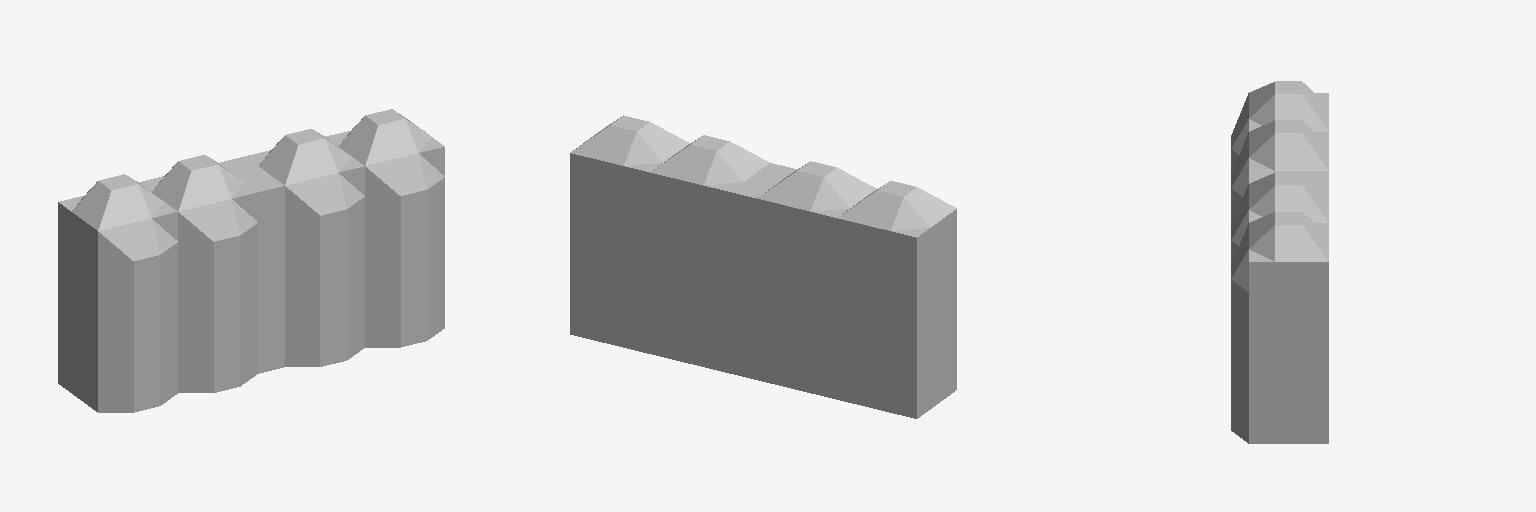
Rendered from Wall.obj.
3 renders of one model, left to right at view 1: azimuth 30°, elevation 25°; view 2: azimuth 150°, elevation 25°; view 3: azimuth 270°, elevation 25°, orthographic.
Visible parts, largest first — view 1: Cube; view 2: Cube; view 3: Cube.
Boxes of the visible parts, <box> form: Cube: <box>58,109,444,412</box>; Cube: <box>570,115,956,418</box>; Cube: <box>1231,81,1328,443</box>.
Size of the model in its own units: 20 by 11.35 by 4.87.